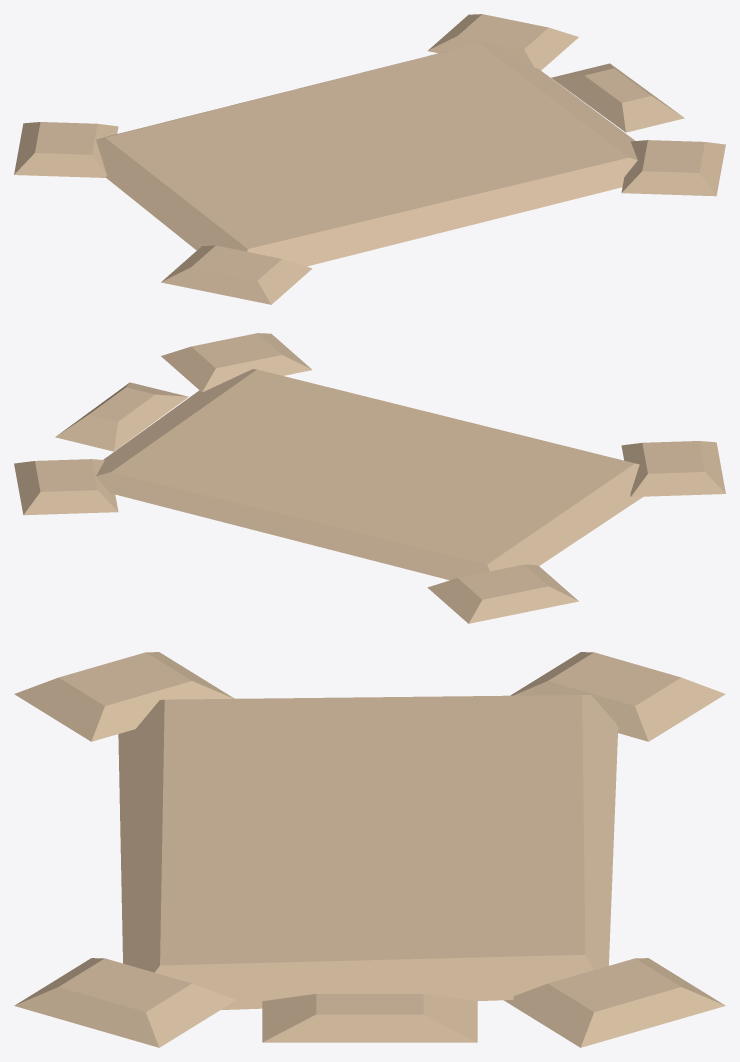
Rendered from item_006_hide_s.glb.
The picture shows the model from 3 angles, top to bottom: view 1: azimuth 30°, elevation 25°; view 2: azimuth 150°, elevation 25°; view 3: azimuth 270°, elevation 25°; orthographic projection. The views are drawn at different scales.
Visible parts, largest first — view 1: item_006_hide_s; view 2: item_006_hide_s; view 3: item_006_hide_s.
Part boxes in pixels (x1=…): item_006_hide_s: x1=14, y1=14, x2=725, y2=304; item_006_hide_s: x1=14, y1=333, x2=725, y2=623; item_006_hide_s: x1=14, y1=652, x2=725, y2=1047.
Size of the model in its own units: 0.9572 by 0.037 by 0.7276.
